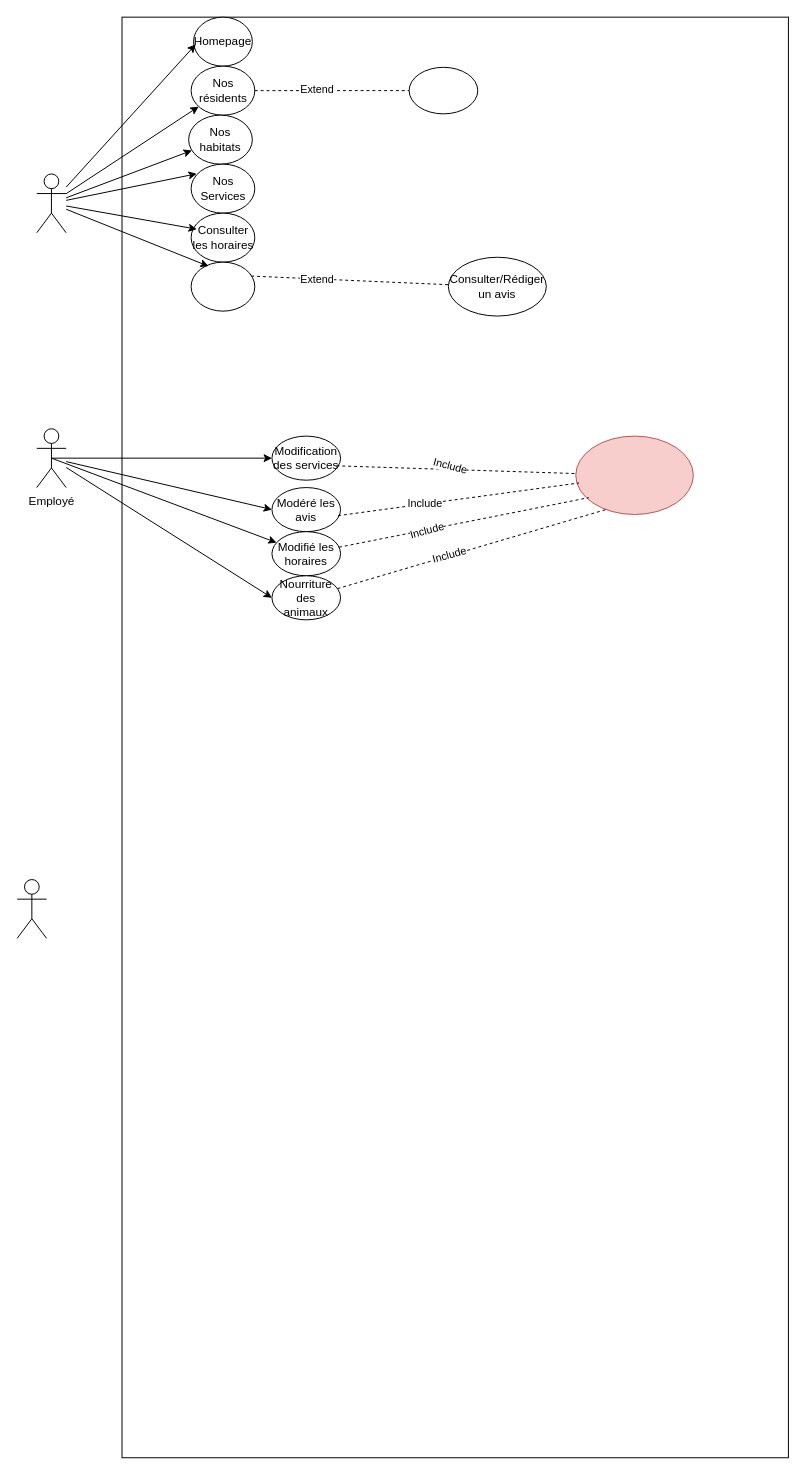
The diagram is 806 pixels wide and 1475 high, and some of its shapes have lost their labels. The centre of each missing label's shape, as x and y in pixels:
Actor: (x=31, y=908)
Filtrer les résidents: (x=443, y=90)
Laisser un avis: (x=222, y=286)
Se connecter: (x=634, y=474)
Visiteur: (x=51, y=203)
